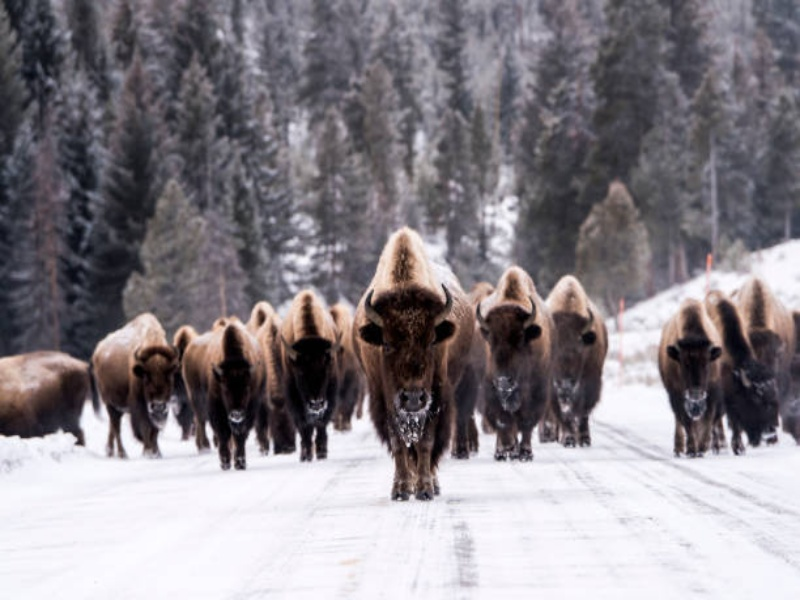buffalo: (88, 225, 610, 503)
